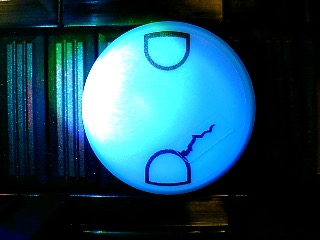CRACK: (80, 20, 257, 195)
